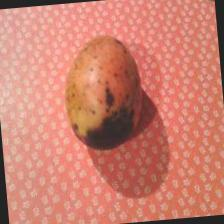Mango Overripe: (58, 28, 148, 149)
